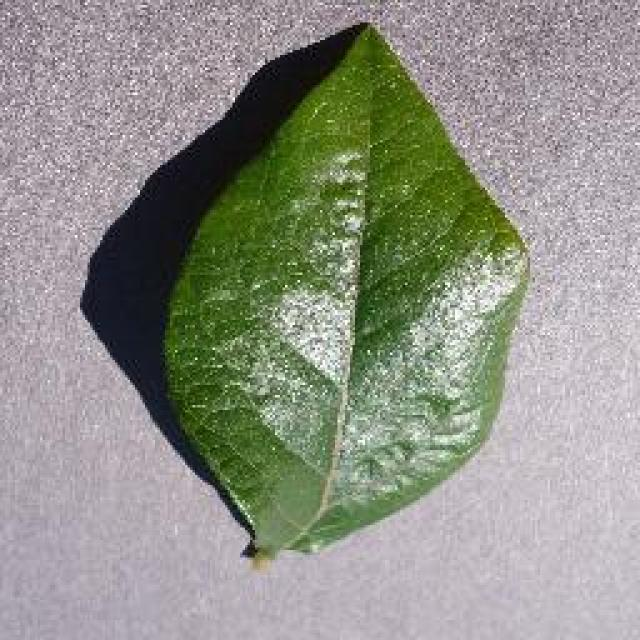Blu_healthy: (191, 86, 524, 495)
